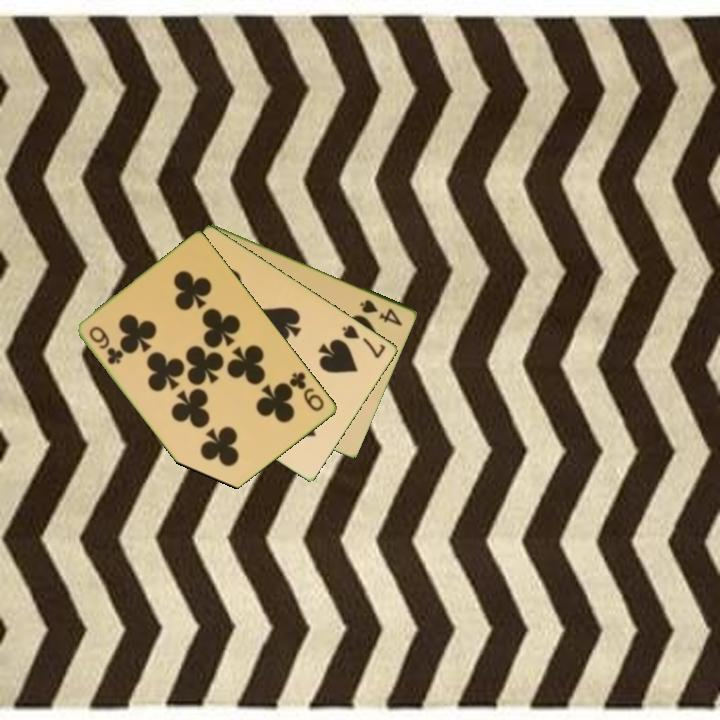4s: (357, 296, 406, 329)
7s: (339, 321, 389, 361)
9c: (286, 368, 328, 414), (86, 323, 127, 368)
